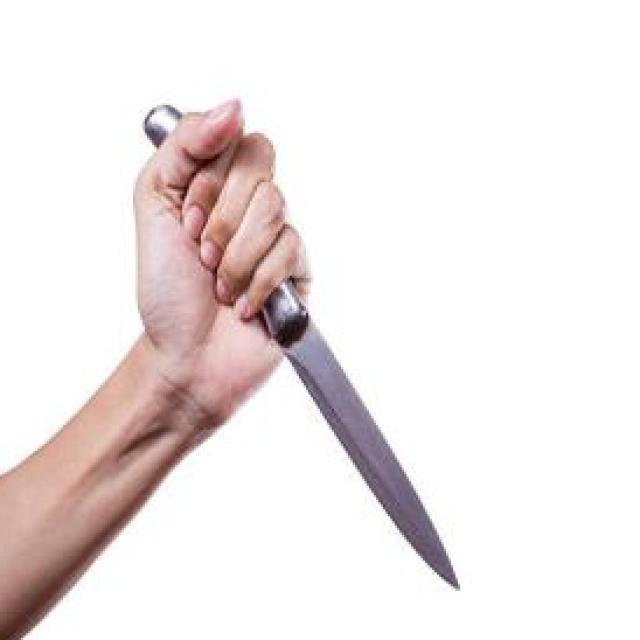knife: (139, 96, 460, 594)
